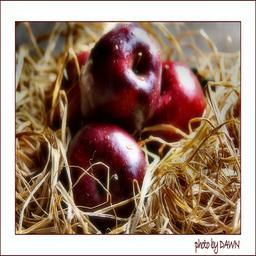apple: (80, 25, 161, 130), (64, 125, 146, 212), (150, 61, 205, 140)
